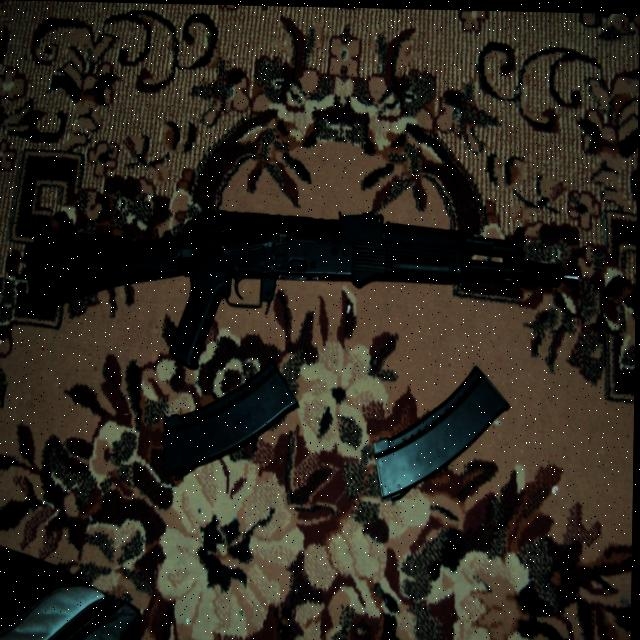firearm: (30, 204, 580, 369)
